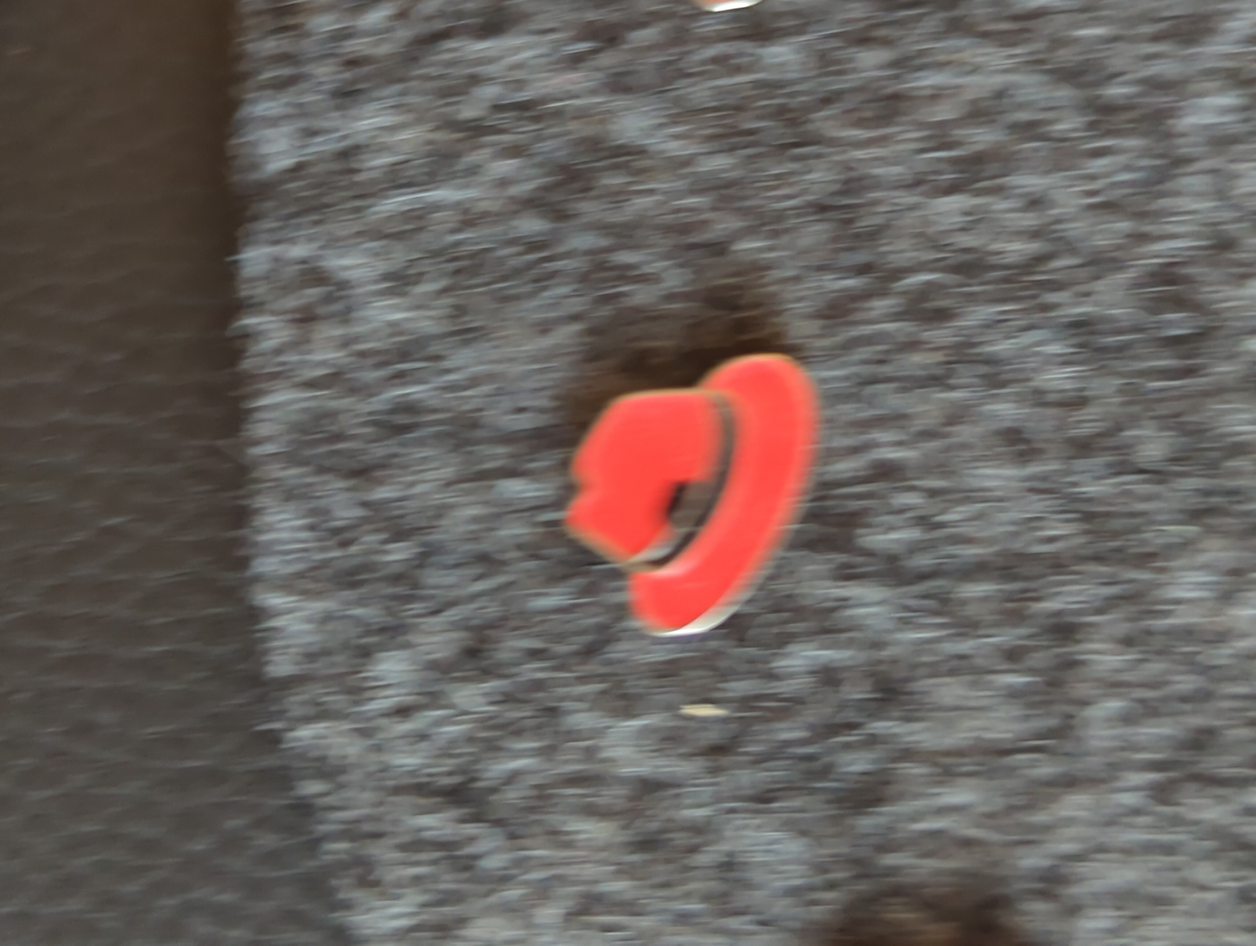Red-Hat: (511, 286, 907, 681)
Scratch: (642, 450, 743, 559)
